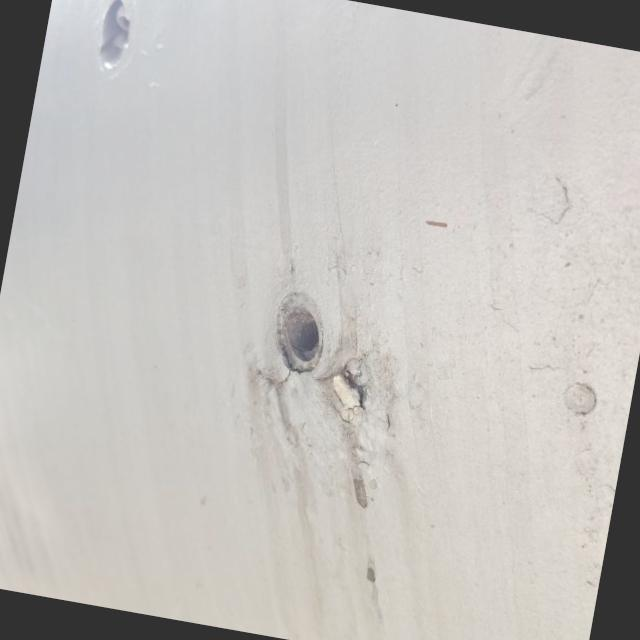Missing Fastener: (268, 289, 330, 374)
